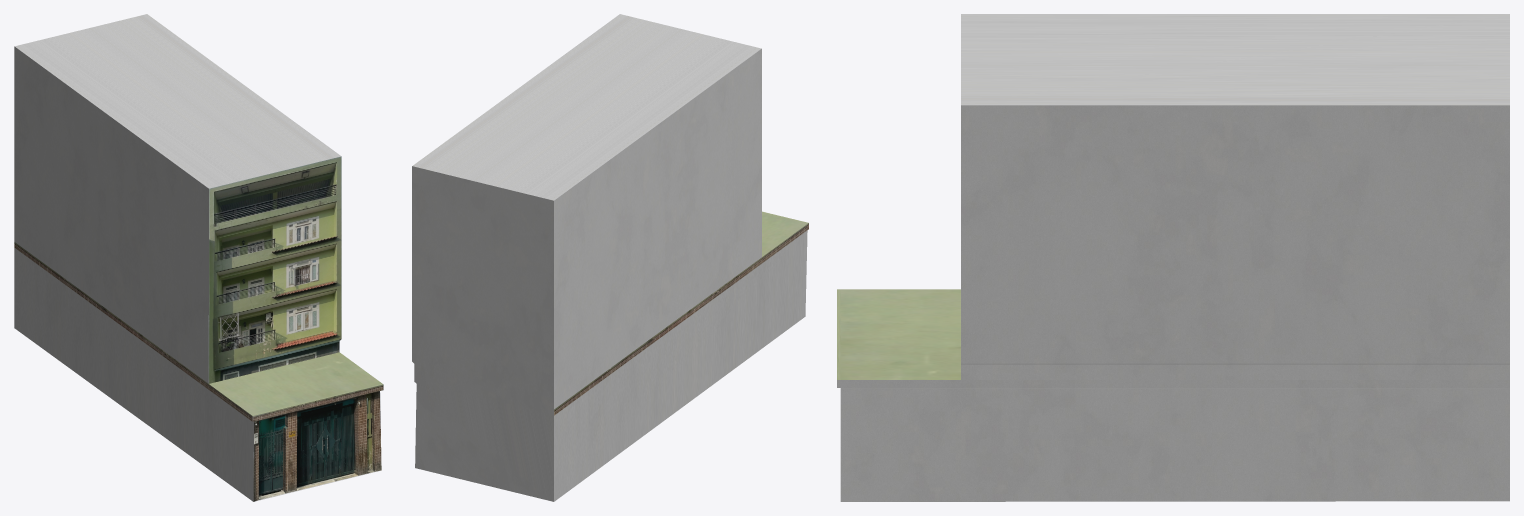
The model's file is RefHouse2.fbx.
3 renders of one model, left to right at view 1: azimuth 30°, elevation 25°; view 2: azimuth 150°, elevation 25°; view 3: azimuth 270°, elevation 25°, orthographic. The views are drawn at different scales.
Visible parts, largest first — view 1: ReferenceHouse2; view 2: ReferenceHouse2; view 3: ReferenceHouse2.
Boxes of the visible parts, <box> form: ReferenceHouse2: <box>14,14,383,501</box>; ReferenceHouse2: <box>412,14,808,501</box>; ReferenceHouse2: <box>837,14,1509,501</box>.
Size of the model in its own units: 668 by 1355 by 2073.
2 materials, 2 textured.
